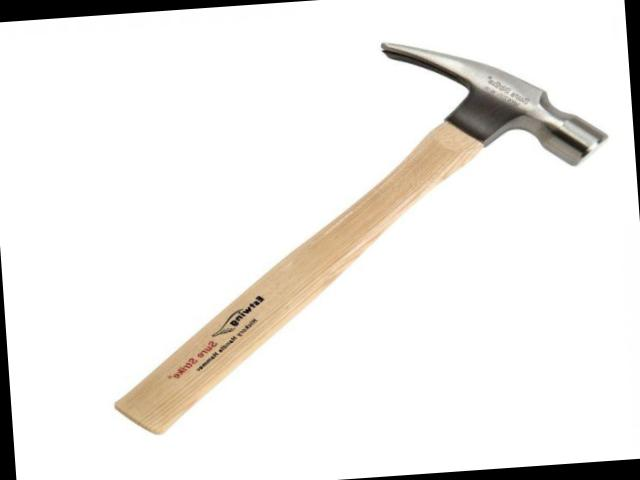hammer: (86, 24, 624, 442)
